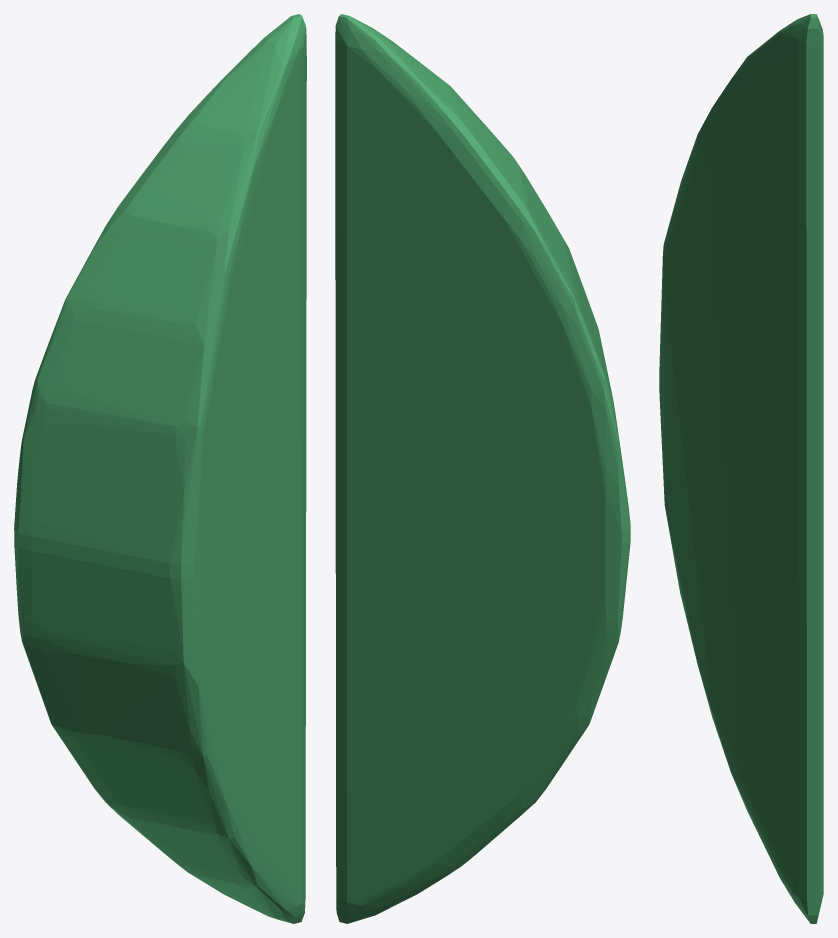
Rendered from left_palm_part_3.obj.
The picture shows the model from 3 angles, left to right: view 1: azimuth 30°, elevation 25°; view 2: azimuth 150°, elevation 25°; view 3: azimuth 270°, elevation 25°; orthographic projection.
Bounding box in the file's own units: 6.14 × 18.4 × 3.03.
